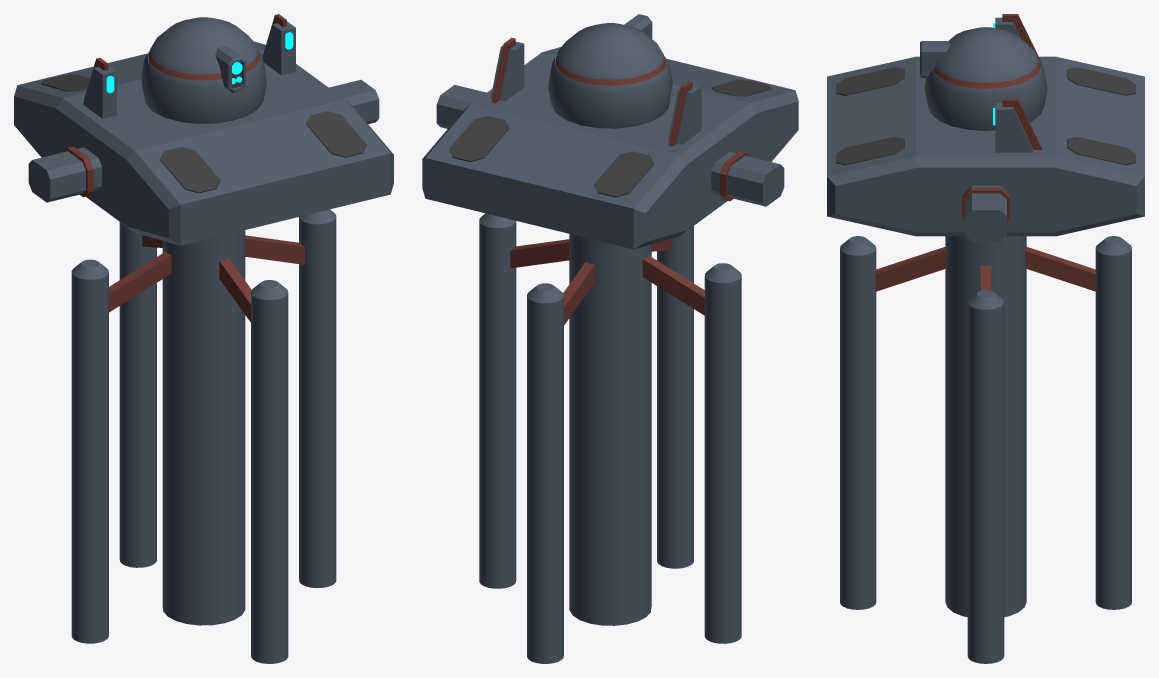
File: DroneTurret.fbx
3 renders of one model, left to right at view 1: azimuth 30°, elevation 25°; view 2: azimuth 150°, elevation 25°; view 3: azimuth 270°, elevation 25°, orthographic. The views are drawn at different scales.
Parts seen in each view (by area): view 1: pCube205, pCylinder23, pCylinder27, pCylinder24, pCylinder26, pCylinder25, pasted__pSphere10, pCube226, pCube228, pCube229, pCube209, pCube227 (+6 smaller); view 2: pCube205, pCylinder23, pCylinder27, pCylinder26, pCylinder25, pCylinder24, pasted__pSphere10, pCube226, pCube230, pCube231, pCube227, pCube213 (+5 smaller); view 3: pCube205, pCylinder23, pCylinder26, pCylinder25, pCylinder24, pasted__pSphere10, pCube210, pCube227, pCube207, pCube206, pCube230, pCube231 (+4 smaller).
Part boxes in pixels (x1,y1,x2,y2): pCube205: [14, 41, 393, 245]; pCylinder23: [162, 230, 245, 625]; pCylinder27: [71, 259, 108, 643]; pCylinder24: [251, 280, 288, 663]; pCylinder26: [299, 209, 336, 587]; pCylinder25: [119, 222, 156, 567]; pasted__pSphere10: [141, 17, 266, 123]; pCube226: [28, 146, 101, 202]; pCube228: [306, 111, 366, 157]; pCube229: [160, 147, 220, 193]; pCube209: [109, 251, 171, 312]; pCube227: [262, 14, 295, 75]; pCube205: [422, 47, 798, 249]; pCylinder23: [569, 234, 651, 625]; pCylinder27: [704, 263, 741, 643]; pCylinder26: [479, 213, 516, 588]; pCylinder25: [527, 283, 563, 663]; pCylinder24: [657, 226, 693, 568]; pasted__pSphere10: [548, 23, 672, 128]; pCube226: [711, 151, 784, 206]; pCube230: [594, 151, 654, 197]; pCube231: [449, 116, 509, 162]; pCube227: [490, 37, 524, 103]; pCube213: [668, 81, 701, 146]; pCube205: [827, 56, 1144, 236]; pCylinder23: [945, 236, 1026, 617]; pCylinder26: [967, 290, 1004, 663]; pCylinder25: [1095, 236, 1131, 609]; pCylinder24: [840, 236, 876, 609]; pasted__pSphere10: [924, 27, 1047, 130]; pCube210: [962, 185, 1009, 241]; pCube227: [995, 99, 1041, 152]; pCube207: [1025, 247, 1096, 291]; pCube206: [875, 247, 946, 291]; pCube230: [1067, 67, 1135, 95]; pCube231: [1067, 136, 1135, 165].
Bounding box in the file's own units: 20.25 × 34.42 × 17.41.
